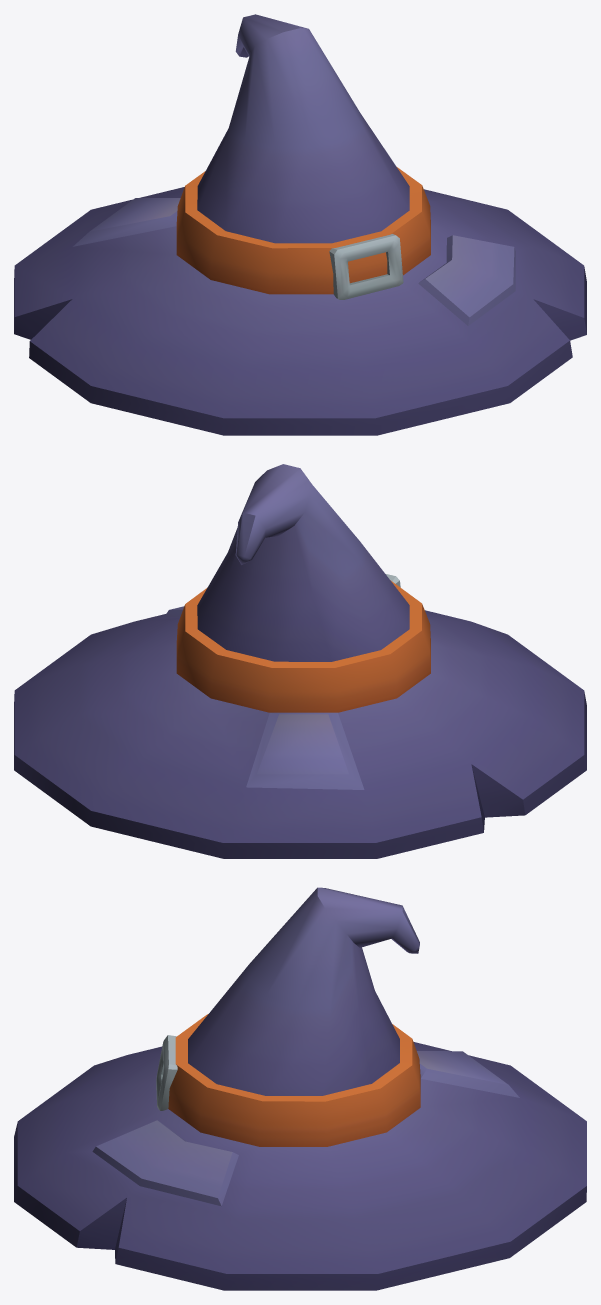
File: wizard_hat.glb
3 renders of one model, top to bottom at view 1: azimuth 30°, elevation 25°; view 2: azimuth 150°, elevation 25°; view 3: azimuth 270°, elevation 25°, orthographic.
Visible parts, largest first — view 1: Mage_Hat; view 2: Mage_Hat; view 3: Mage_Hat.
Part boxes in pixels (left/top/right/bottom): Mage_Hat: left=14, top=14, right=586, bottom=435; Mage_Hat: left=14, top=464, right=586, bottom=858; Mage_Hat: left=14, top=887, right=586, bottom=1290.
Bounding box in the file's own units: 2.09 × 1.13 × 2.09.
1 material, 1 textured.
